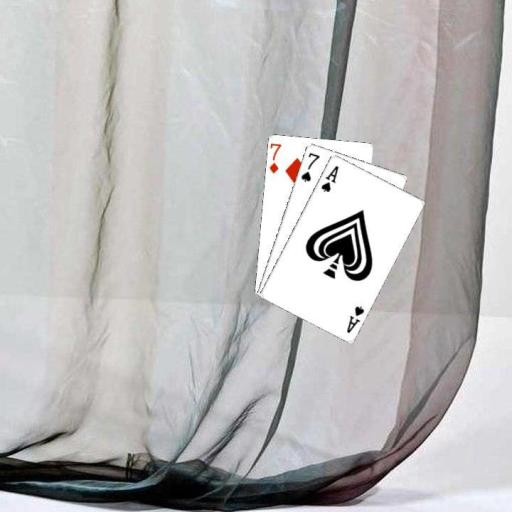7D: (266, 140, 282, 175)
7S: (298, 149, 321, 183)
AS: (318, 162, 340, 194), (344, 302, 366, 334)
